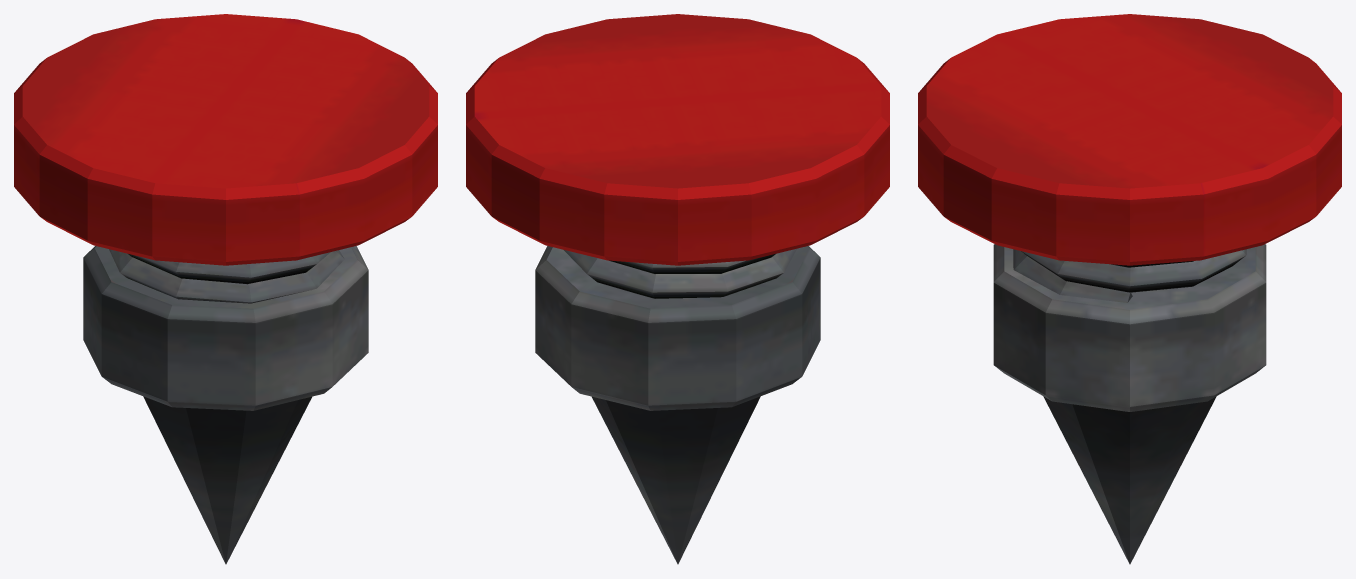
File: springclassicred.obj
The picture shows the model from 3 angles, left to right: view 1: azimuth 30°, elevation 25°; view 2: azimuth 150°, elevation 25°; view 3: azimuth 270°, elevation 25°; orthographic projection.
Visible parts, largest first — view 1: rdmobj00_rdmobj00.001; view 2: rdmobj00_rdmobj00.001; view 3: rdmobj00_rdmobj00.001.
Part boxes in pixels (box(x1,y1,x2,y2)): rdmobj00_rdmobj00.001: box(14, 14, 437, 564); rdmobj00_rdmobj00.001: box(466, 14, 889, 564); rdmobj00_rdmobj00.001: box(918, 14, 1341, 564).
Bounding box in the file's own units: 36 × 42.79 × 35.45.
1 material, 1 textured.
